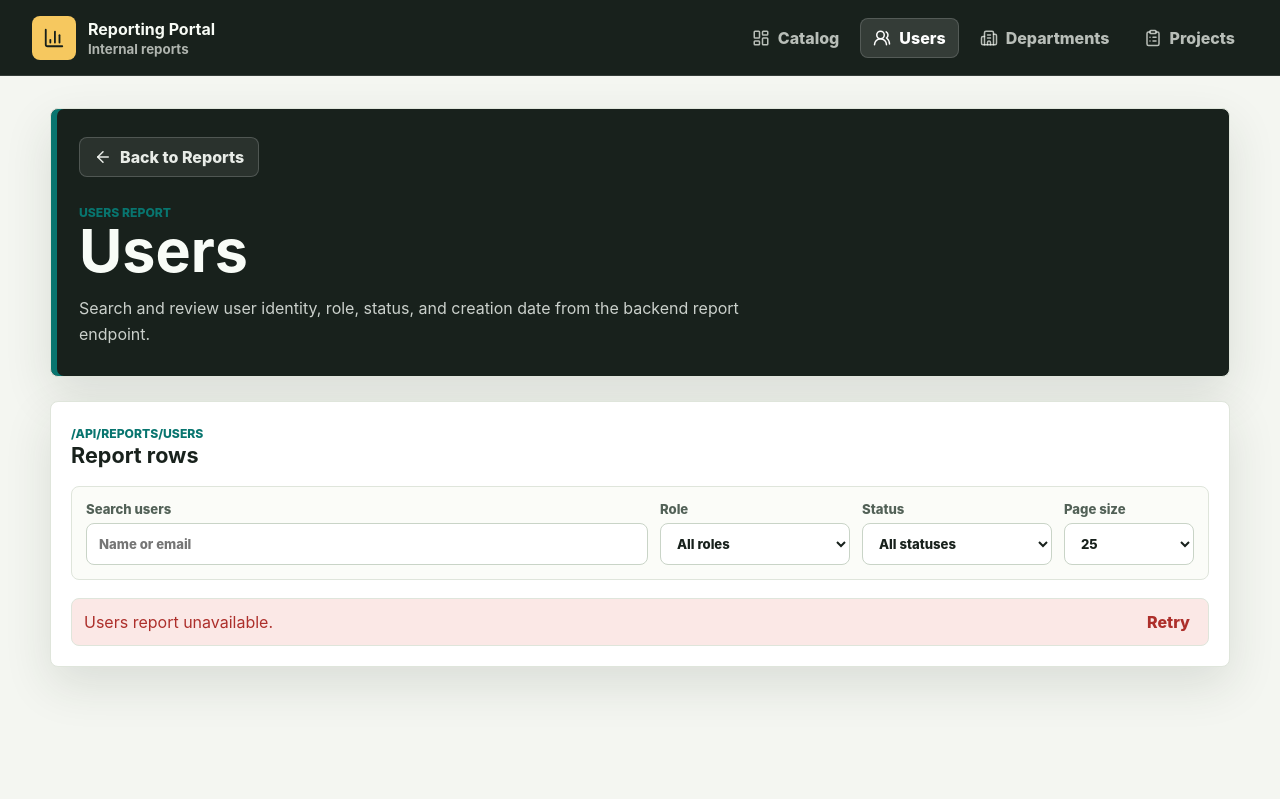
Test: AppShell › retries the users report after an error
Expected: the text "Users report unavailable." is shown, [84,612,273,632]
What coordinates should you click on to do the following:
click the button "Retry"
I would click on:
 (1168, 622)
Its box is [1141,611,1196,633].
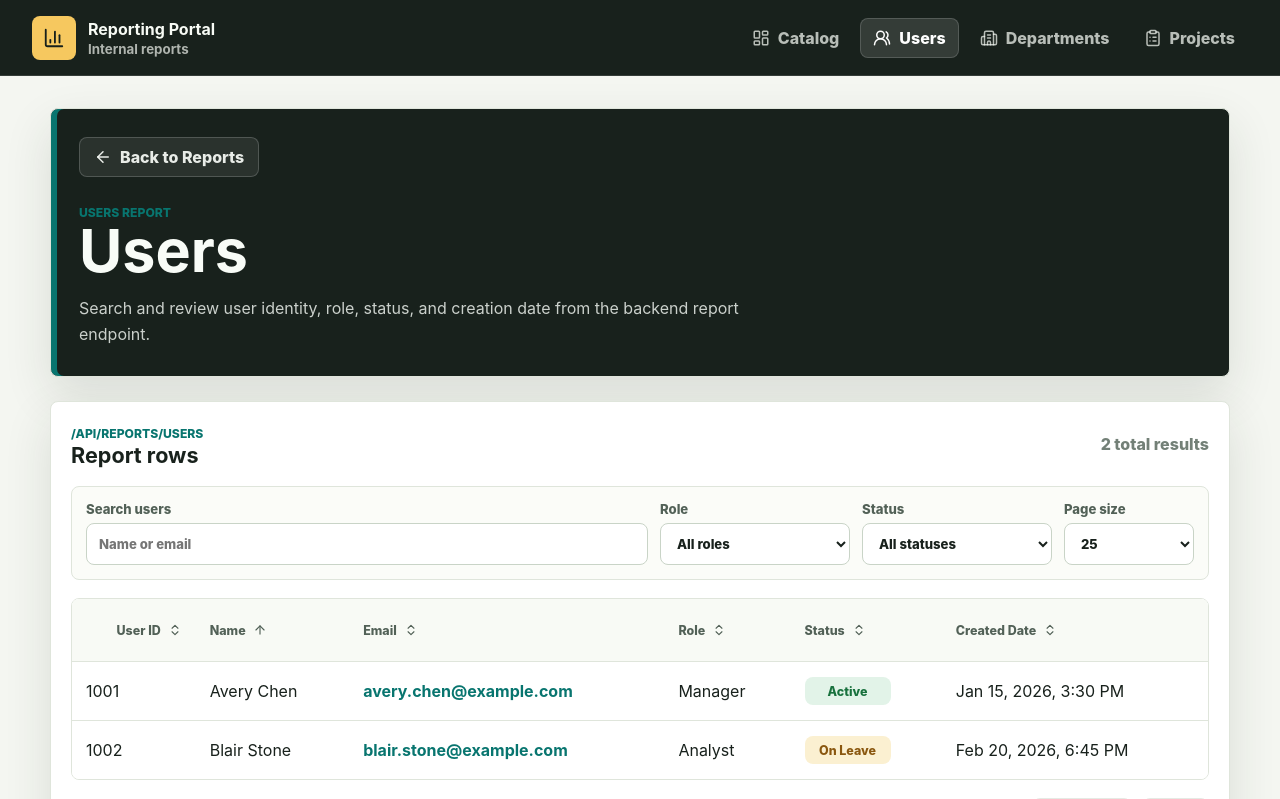
Result: the text "Avery Chen" is shown at [196,662,349,721]
